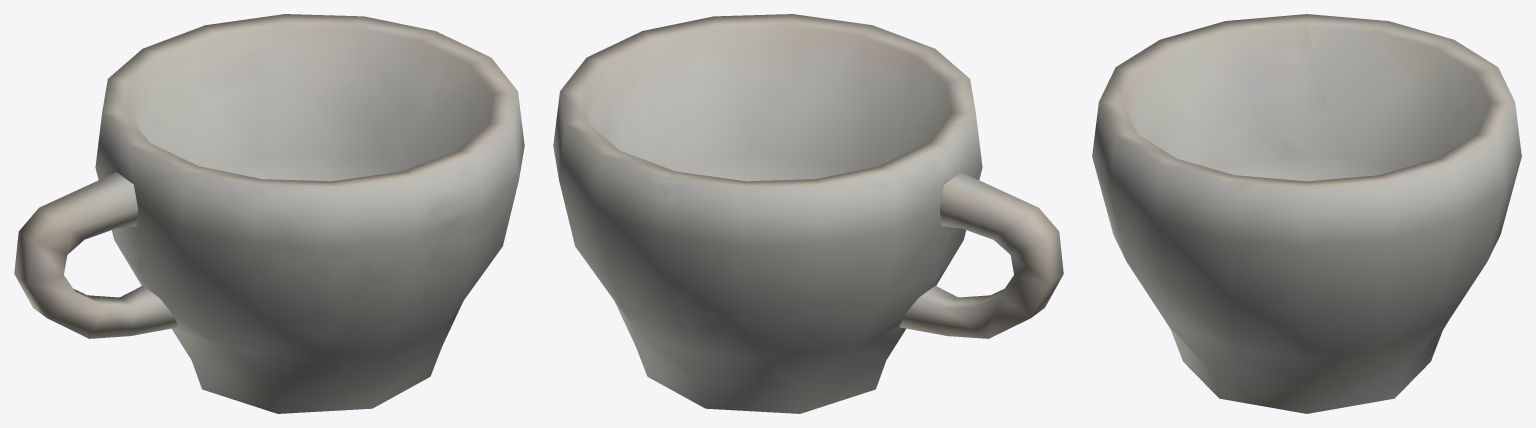
File: cup.glb
The picture shows the model from 3 angles, left to right: view 1: azimuth 30°, elevation 25°; view 2: azimuth 150°, elevation 25°; view 3: azimuth 270°, elevation 25°; orthographic projection.
Parts seen in each view (by area): view 1: Coffee_Cup_A; view 2: Coffee_Cup_A; view 3: Coffee_Cup_A.
Part boxes in pixels (x1,y1,x2,y2): Coffee_Cup_A: (14,14,524,413); Coffee_Cup_A: (553,14,1063,413); Coffee_Cup_A: (1092,14,1521,413).
Size of the model in its own units: 0.14 by 0.0737 by 0.1102.
Materials: 1 (1 with a texture image).
